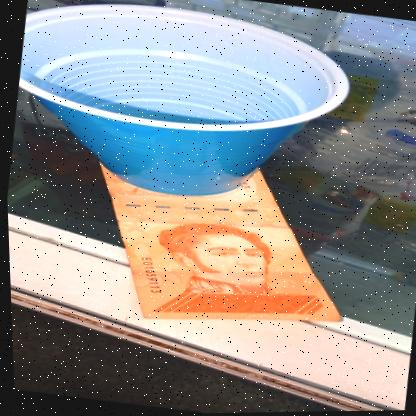vef_front: (76, 143, 361, 346)
